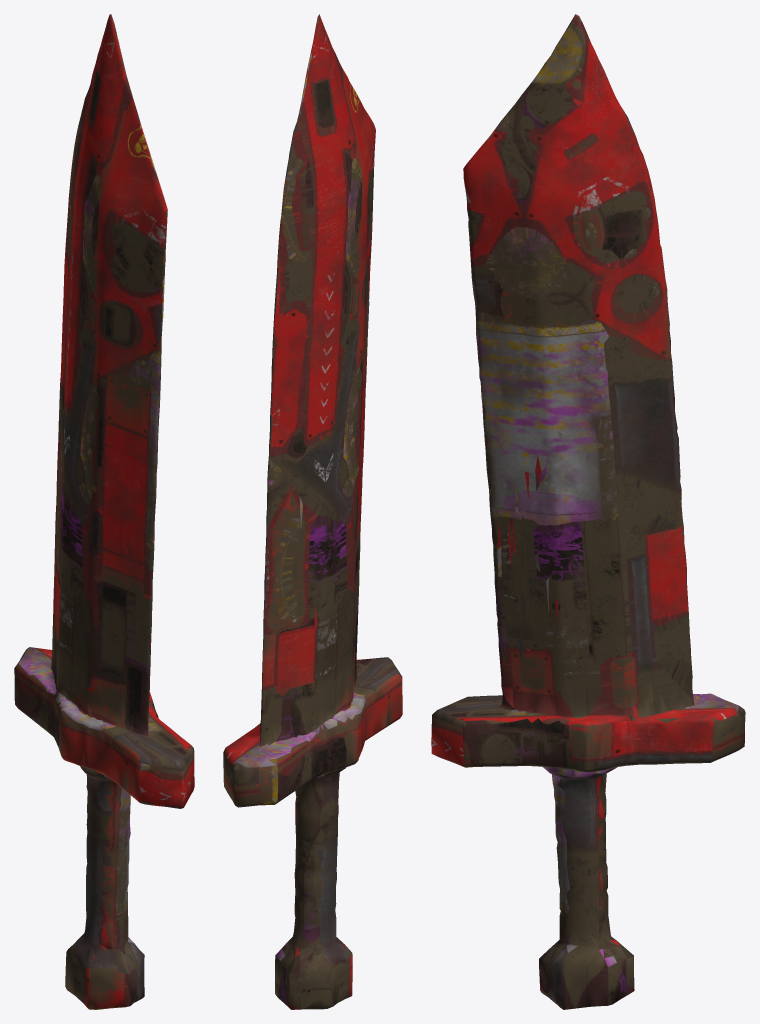
Rendered from Model_SwordFuture.fbx.
3 views of the same model, side by side, from view 1: azimuth 30°, elevation 25°; view 2: azimuth 150°, elevation 25°; view 3: azimuth 270°, elevation 25° (orthographic).
Visible parts, largest first — view 1: Mesh_0; view 2: Mesh_0; view 3: Mesh_0.
Part boxes in pixels (left/top/right/bottom): Mesh_0: left=14, top=14, right=194, bottom=1009; Mesh_0: left=223, top=14, right=402, bottom=1009; Mesh_0: left=431, top=14, right=745, bottom=1009.
Size of the model in its own units: 29.4 by 314 by 90.32.
